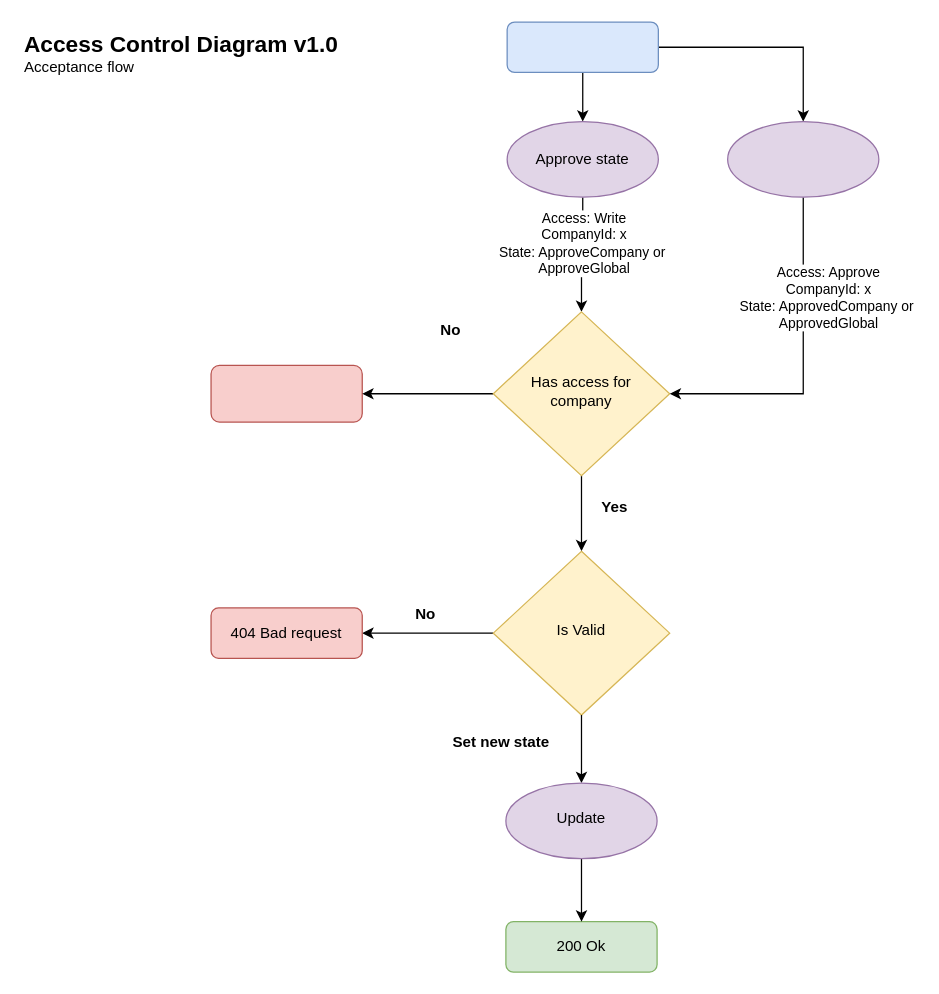
The diagram is 939 pixels wide and 994 high, and some of its shapes have lost their labels. The shapes that lost their labels are listed below. From the top down, each one's centre as x and y in pixels, then its label:
At point 582,46: "User".
At point 802,158: "Accept approval".
At point 286,393: "401 Access denied".
